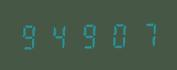four: (46, 20, 73, 50)
nine: (18, 21, 45, 50), (74, 20, 101, 49)
seven: (130, 19, 157, 48)
zero: (102, 19, 129, 49)
